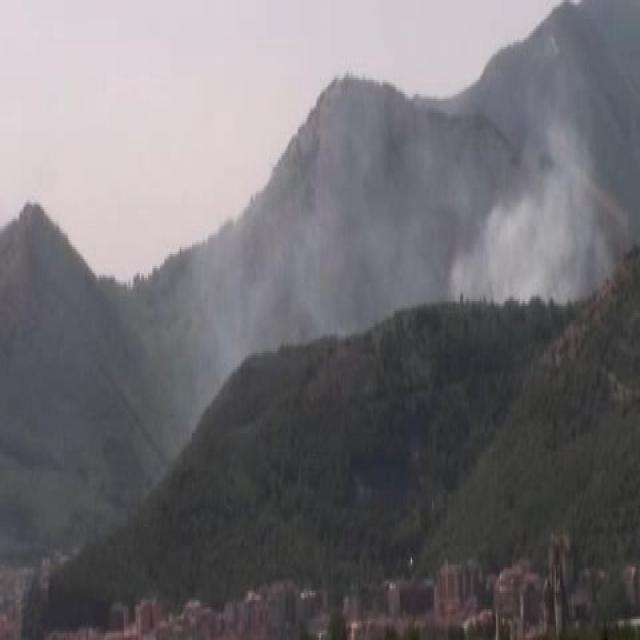smoke: (318, 117, 600, 303)
